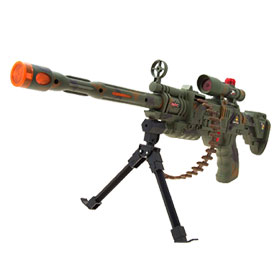rifle: (2, 40, 266, 248)
